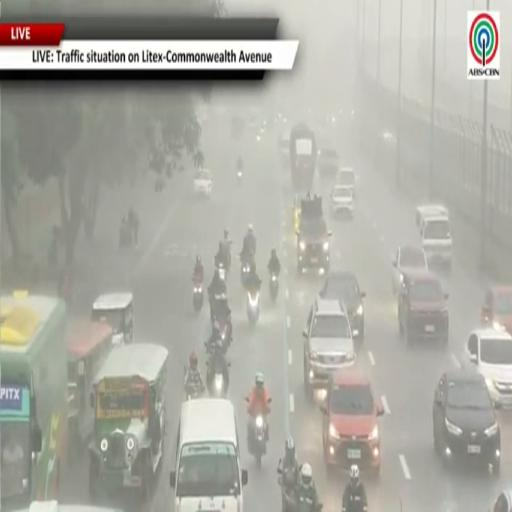bus: (0, 293, 67, 511)
car: (433, 370, 500, 473), (321, 370, 384, 475), (303, 298, 355, 398), (398, 270, 449, 344), (465, 329, 511, 408), (320, 271, 365, 341), (420, 215, 452, 269), (393, 246, 428, 294), (481, 285, 512, 333), (17, 501, 122, 511), (415, 204, 449, 228), (331, 185, 354, 218), (317, 146, 339, 177), (336, 167, 356, 197), (194, 169, 212, 198), (490, 488, 511, 511), (279, 132, 290, 164)
jeepney: (89, 344, 168, 501), (67, 319, 112, 461), (91, 293, 133, 345), (292, 196, 300, 233)
motorcycle: (277, 459, 297, 511), (248, 414, 267, 467), (208, 368, 227, 397), (210, 293, 226, 324), (296, 494, 323, 511), (215, 316, 231, 344), (247, 290, 259, 325), (184, 382, 204, 401), (119, 223, 134, 248), (192, 279, 203, 312), (240, 258, 250, 288), (185, 387, 203, 401), (269, 274, 278, 302), (217, 262, 226, 281), (237, 170, 242, 184)
truck: (297, 196, 331, 274), (289, 123, 317, 193)
